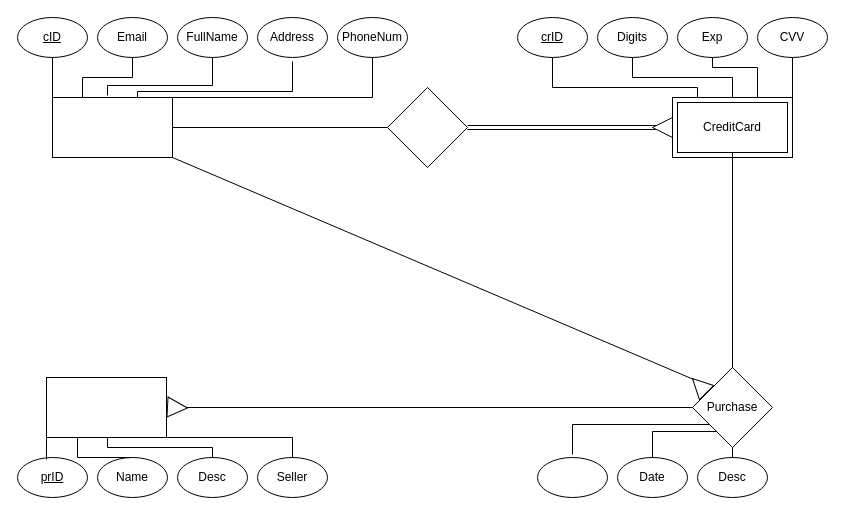
The diagram is 845 pixels wide and 515 high, and some of its shapes have lost their labels. The shapes that lost their labels are listed below. From the top down, each one's centre as x and y in pixels, then its label:
At [112,127]: "Customer".
At [427,127]: "PaysWith".
At [106,407]: "Product".
At [572,477]: "puID".
